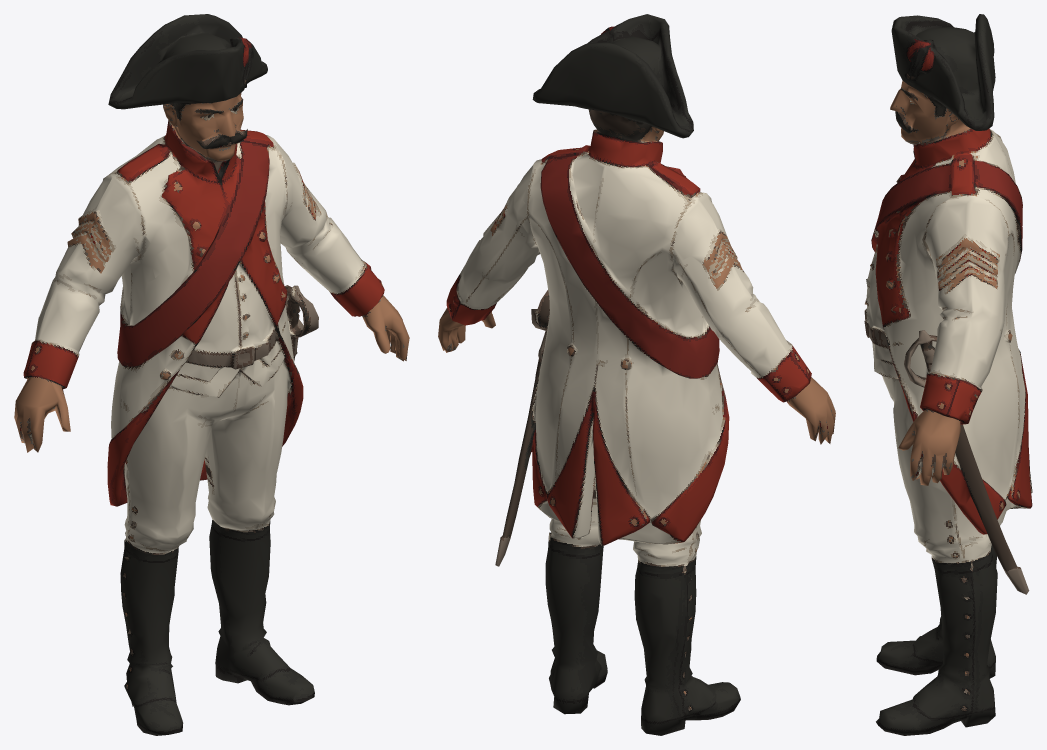
Rendered from sargento.glb.
The picture shows the model from 3 angles, left to right: view 1: azimuth 30°, elevation 25°; view 2: azimuth 150°, elevation 25°; view 3: azimuth 270°, elevation 25°; orthographic projection.
Parts seen in each view (by area): view 1: tripo_node_82cb8f26-6239-42c8-8ae5-21b308ae3b01; view 2: tripo_node_82cb8f26-6239-42c8-8ae5-21b308ae3b01; view 3: tripo_node_82cb8f26-6239-42c8-8ae5-21b308ae3b01.
Part boxes in pixels (x1,y1,x2,y2): tripo_node_82cb8f26-6239-42c8-8ae5-21b308ae3b01: [14, 14, 409, 735]; tripo_node_82cb8f26-6239-42c8-8ae5-21b308ae3b01: [438, 14, 835, 735]; tripo_node_82cb8f26-6239-42c8-8ae5-21b308ae3b01: [864, 14, 1032, 735].
Bounding box in the file's own units: 0.5985 × 1 × 0.2251.
1 material, 1 textured.
